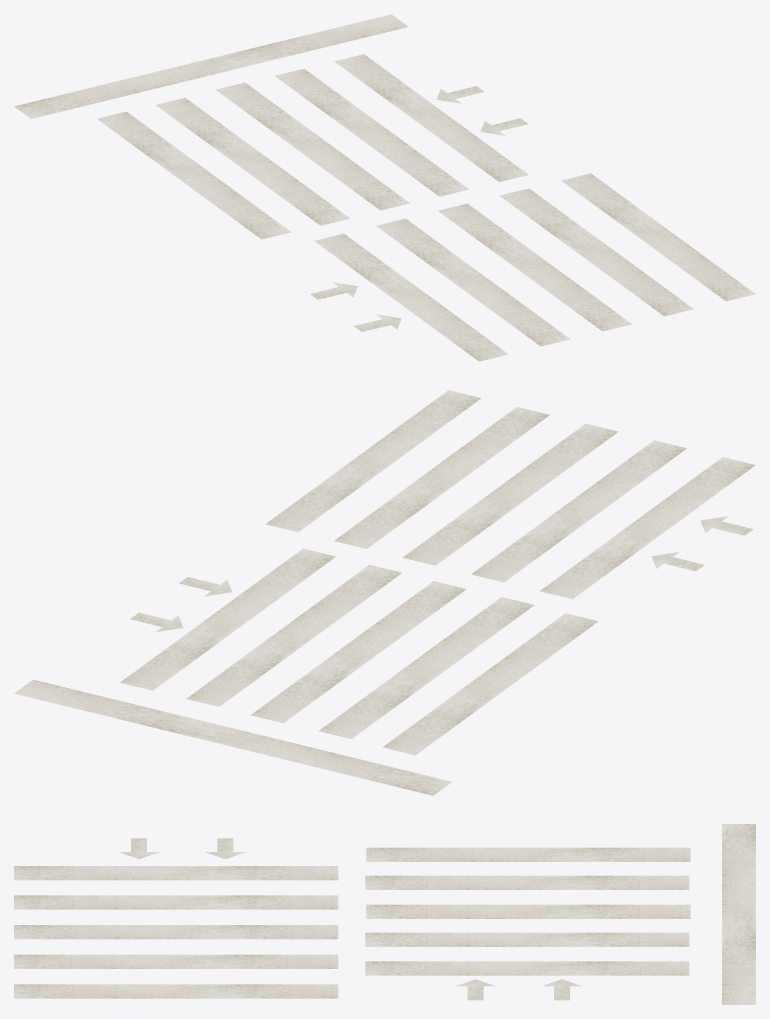
File: a_SExing02.glb
3 renders of one model, top to bottom at view 1: azimuth 30°, elevation 25°; view 2: azimuth 150°, elevation 25°; view 3: azimuth 270°, elevation 25°, orthographic. The views are drawn at different scales.
Parts seen in each view (by area): view 1: a_SExing02; view 2: a_SExing02; view 3: a_SExing02.
Part boxes in pixels (left/top/right/bottom): a_SExing02: left=14, top=14, right=755, bottom=361; a_SExing02: left=14, top=390, right=755, bottom=795; a_SExing02: left=14, top=824, right=755, bottom=1004.
Size of the model in its own units: 6.34 by 3.58e-07 by 10.99.
Materials: 1 (1 with a texture image).
